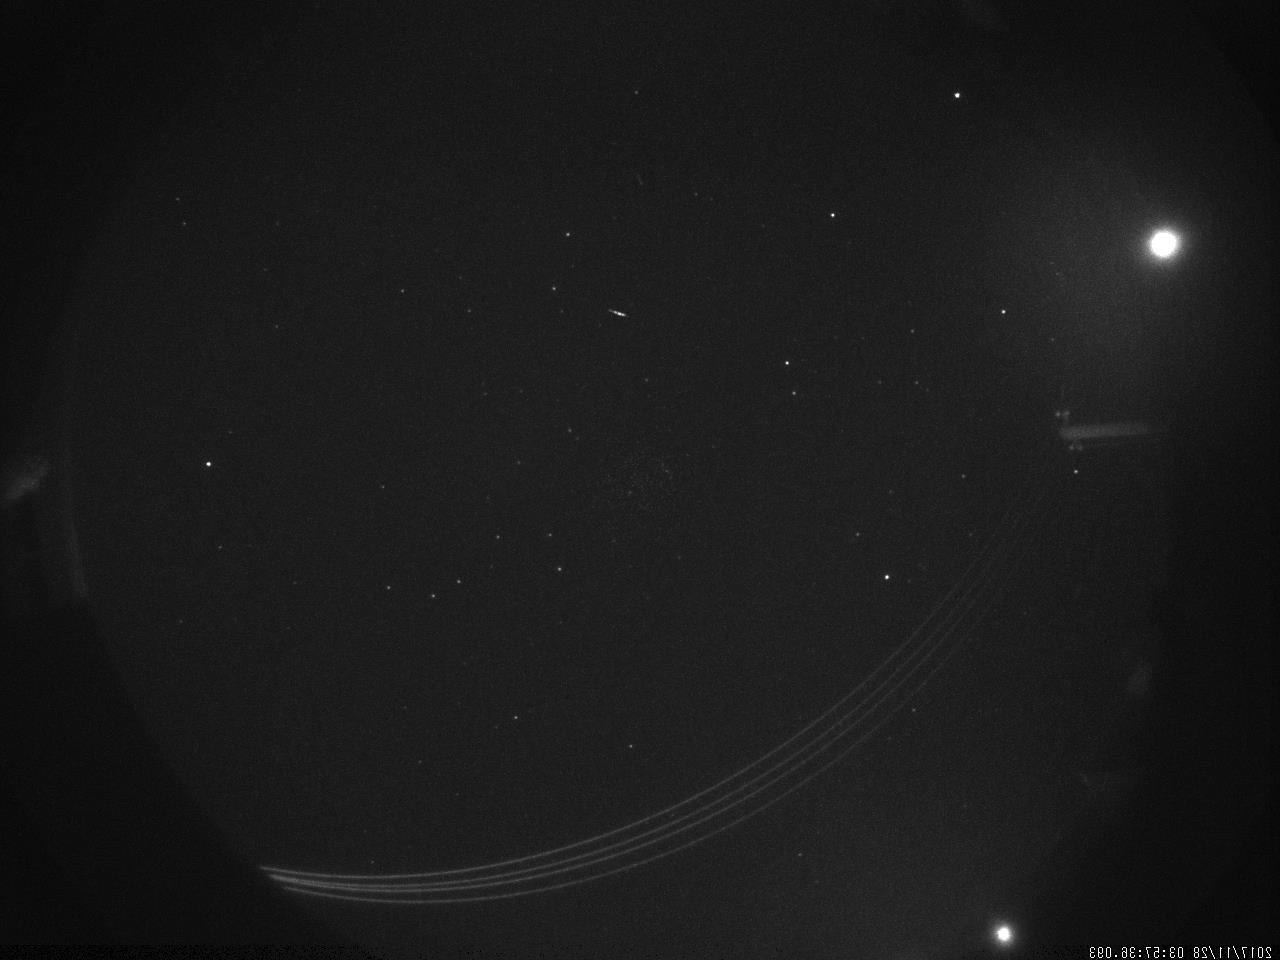meteor: (590, 302, 636, 330)
